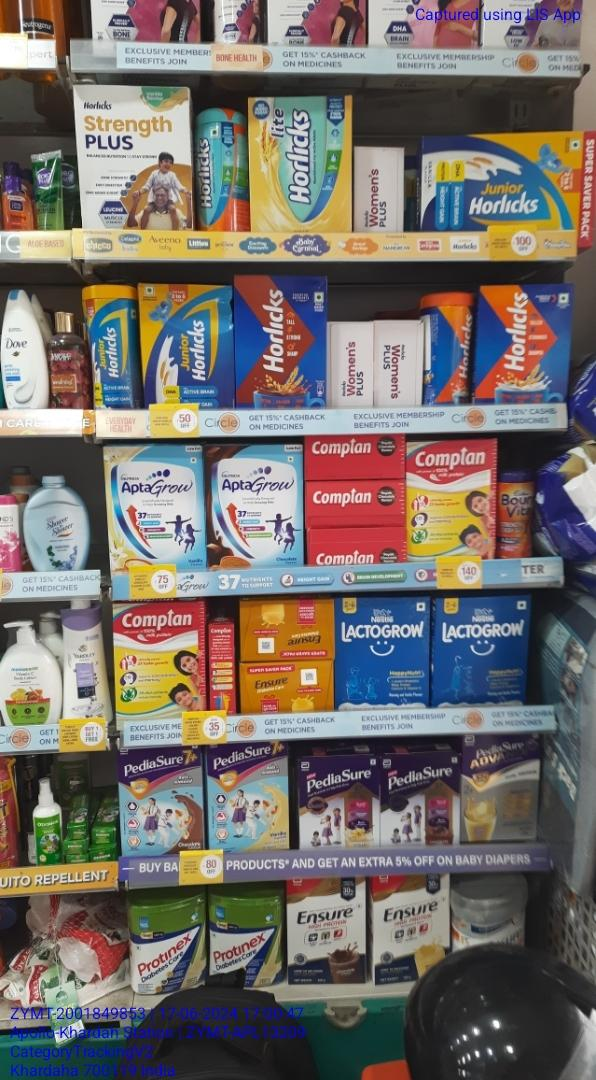BOURN_VITA_200_G_JAR: (501, 470, 535, 557)
COMPLAN_CREAMY_CLASSIC_500_G_PACK: (405, 437, 496, 560), (117, 604, 204, 715)
HORLICKS_JUNIOR_VANILLA_500_GM_JAR: (87, 283, 136, 409)
HORLICKS_LITE_REGULAR_MALT_500_GM_JAR: (195, 107, 249, 233)
HORLICK_CHOCOLATE_500_G_PACK: (238, 276, 324, 410), (475, 284, 565, 406)
PEDIASURE_7_PLUS_CHOCOLATE_400_G_PACK: (121, 753, 206, 854)
PEDIASURE_CHOCOLATE_500_G_PACK: (379, 752, 454, 843)
PEDIASURE_VANILLA_500_G_PACK: (300, 757, 375, 846)
